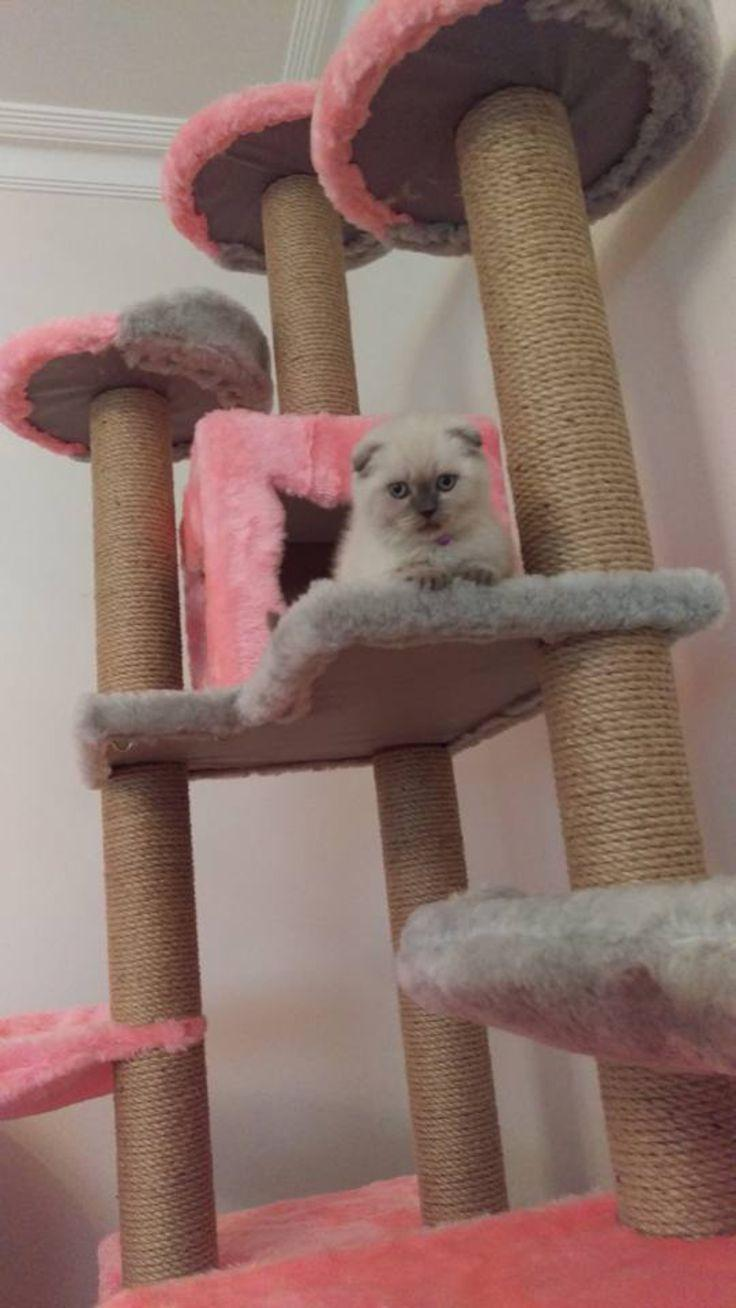kedo: (354, 417, 501, 591)
